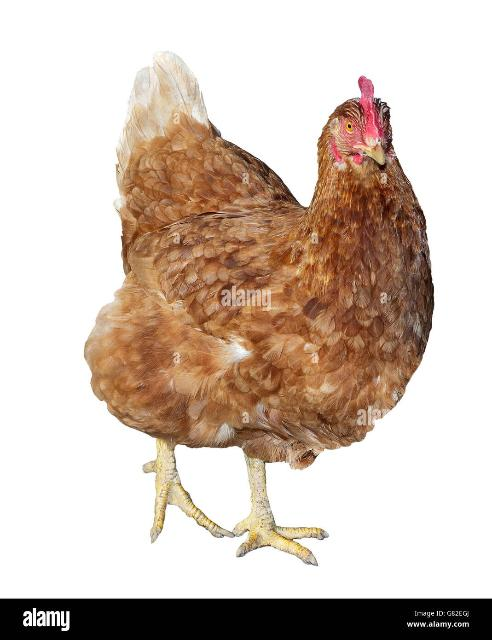Chicken: (84, 52, 436, 568)
